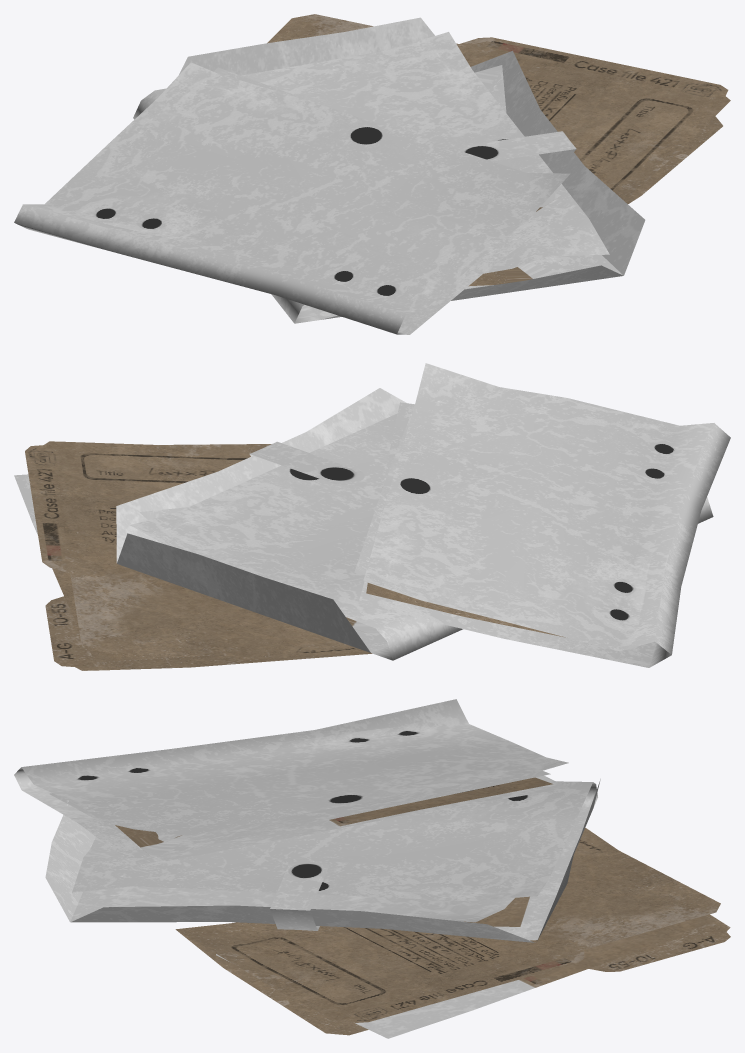
The model's file is SM_File_Pocket6.fbx.
3 renders of one model, top to bottom at view 1: azimuth 30°, elevation 25°; view 2: azimuth 150°, elevation 25°; view 3: azimuth 270°, elevation 25°, orthographic. The views are drawn at different scales.
Parts seen in each view (by area): view 1: SM_File_Pocket6_LOD0; view 2: SM_File_Pocket6_LOD0; view 3: SM_File_Pocket6_LOD0.
Part boxes in pixels (bbox=[...]): SM_File_Pocket6_LOD0: bbox=[14, 14, 730, 334]; SM_File_Pocket6_LOD0: bbox=[14, 363, 730, 670]; SM_File_Pocket6_LOD0: bbox=[14, 699, 730, 1038].
Size of the model in its own units: 75.73 by 71.25 by 9.15.
1 material, 1 textured.
